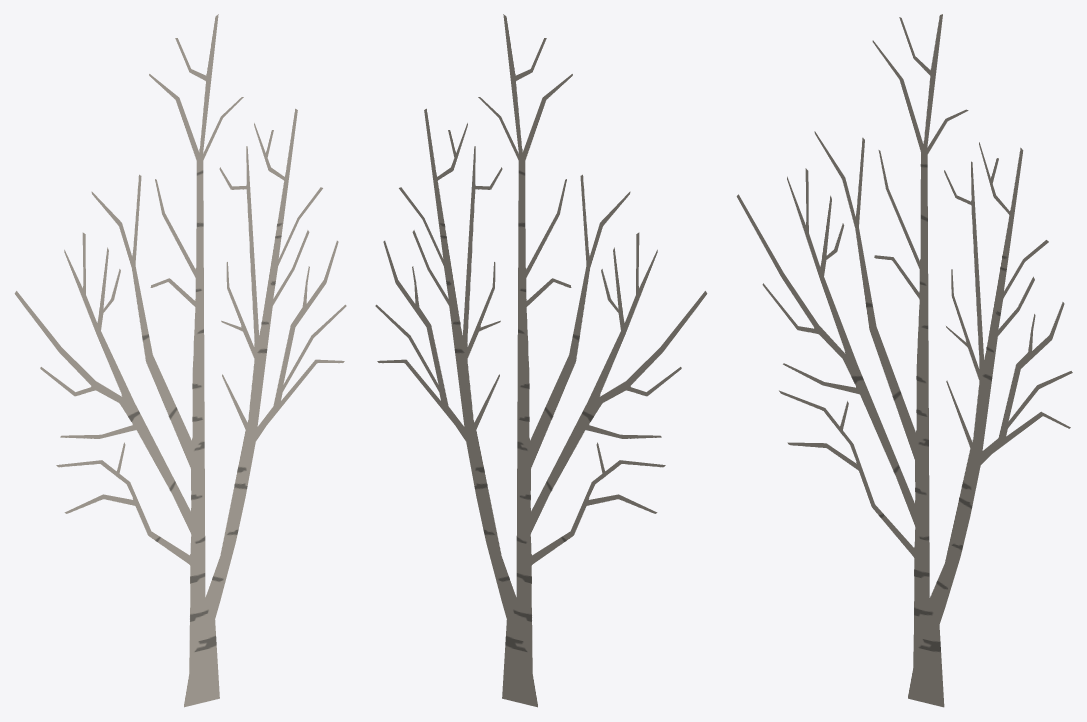
Rendered from Birch_02.fbx.
3 renders of one model, left to right at view 1: azimuth 30°, elevation 25°; view 2: azimuth 150°, elevation 25°; view 3: azimuth 330°, elevation 25°, orthographic.
Visible parts, largest first — view 1: nurbsToPoly1; view 2: nurbsToPoly1; view 3: nurbsToPoly1.
Boxes of the visible parts, left/top/right/bottom form: nurbsToPoly1: left=14, top=14, right=346, bottom=707; nurbsToPoly1: left=375, top=14, right=707, bottom=707; nurbsToPoly1: left=736, top=14, right=1072, bottom=707.
Size of the model in its own units: 12.16 by 23.94 by 7.73e-06.
1 material, 1 textured.
